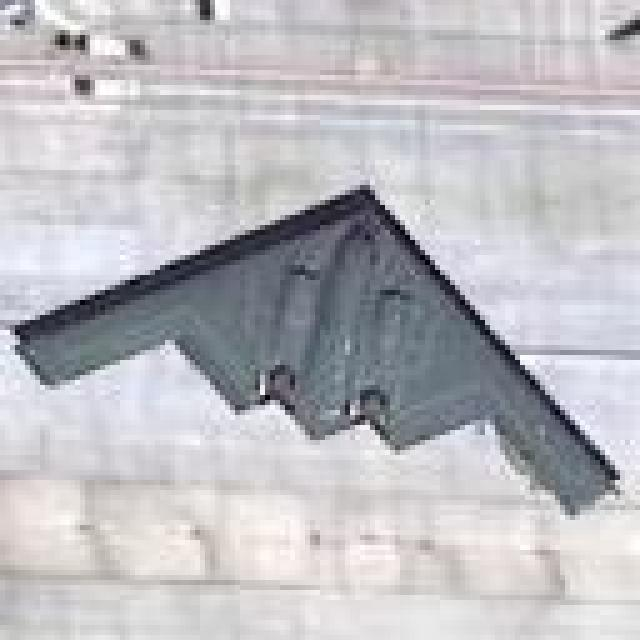B-2_TopDown: (5, 175, 625, 515), (600, 0, 635, 40)
